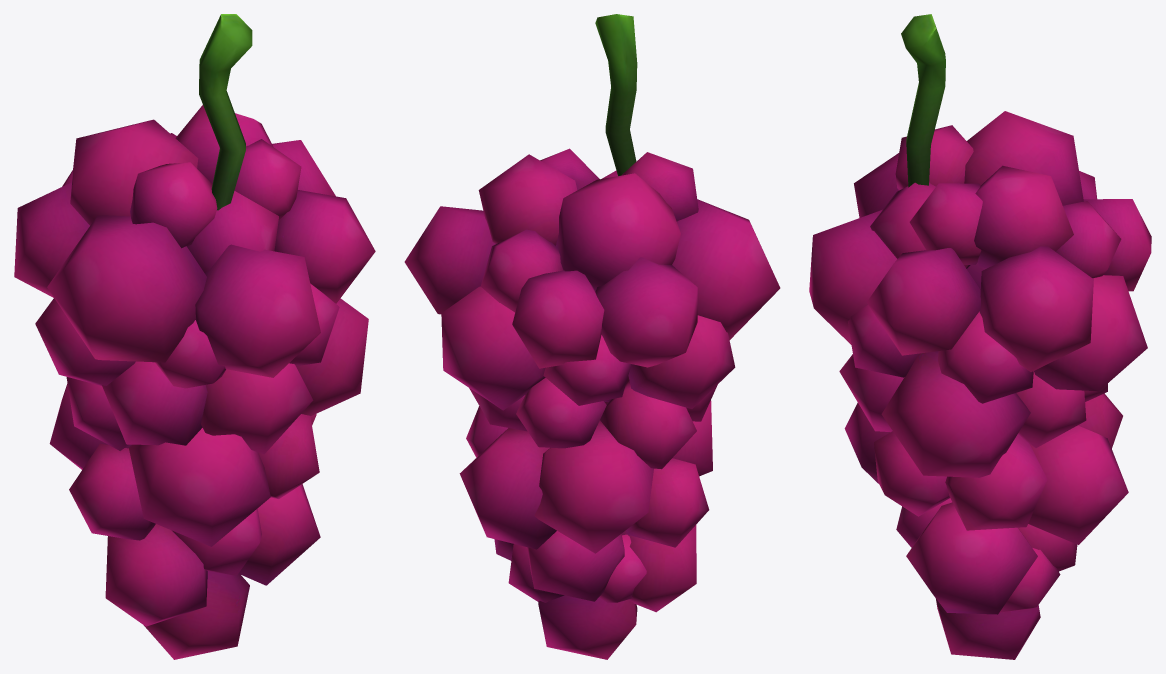
The model's file is SE_Grapes_02b.fbx.
3 views of the same model, side by side, from view 1: azimuth 30°, elevation 25°; view 2: azimuth 150°, elevation 25°; view 3: azimuth 270°, elevation 25° (orthographic). The views are drawn at different scales.
Parts seen in each view (by area): view 1: SE_Grapes_02b; view 2: SE_Grapes_02b; view 3: SE_Grapes_02b.
Boxes of the visible parts, bbox=[...] form: SE_Grapes_02b: bbox=[14, 14, 375, 659]; SE_Grapes_02b: bbox=[404, 14, 780, 659]; SE_Grapes_02b: bbox=[809, 14, 1151, 659].
Size of the model in its own units: 1.11 by 2.25 by 1.09.
